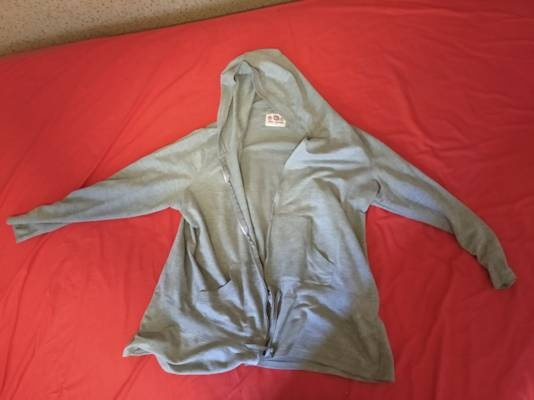Hoodie: (8, 60, 534, 382)
